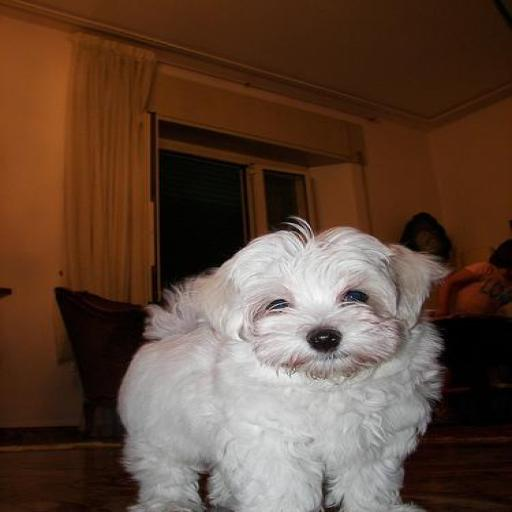dog_face: (222, 236, 432, 378)
